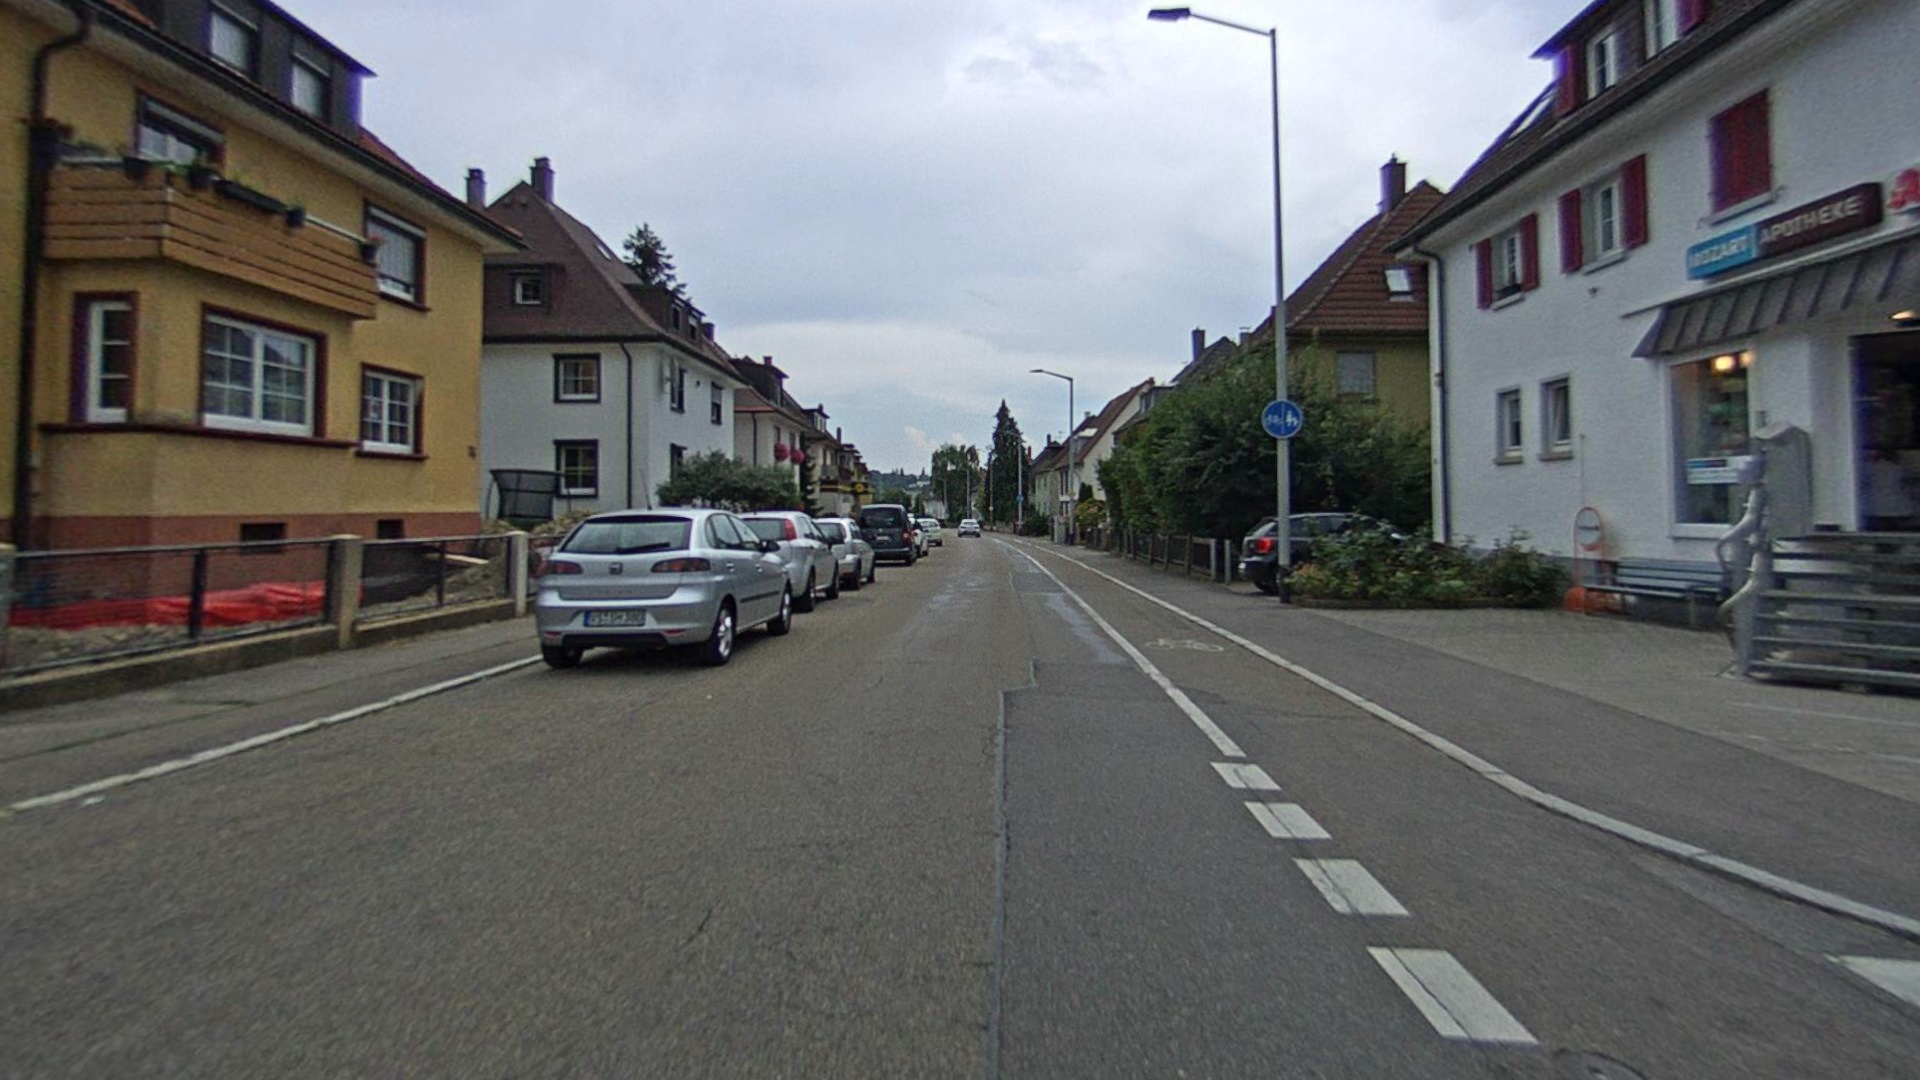car: (531, 506, 794, 669)
